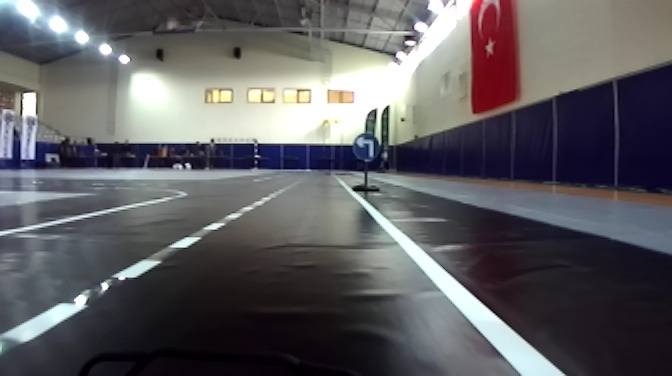sola_donus: (353, 130, 381, 168)
